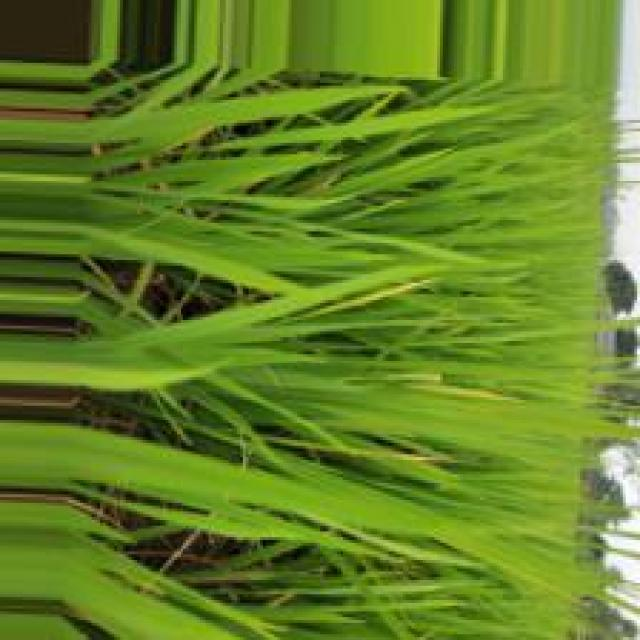HealthyLeaf: (294, 124, 590, 584)
